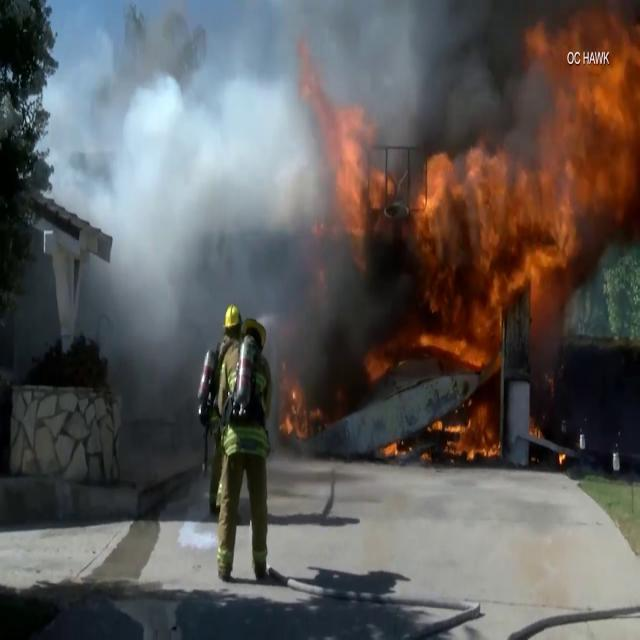Fire: (323, 31, 640, 445)
Smoke: (93, 0, 415, 398)
